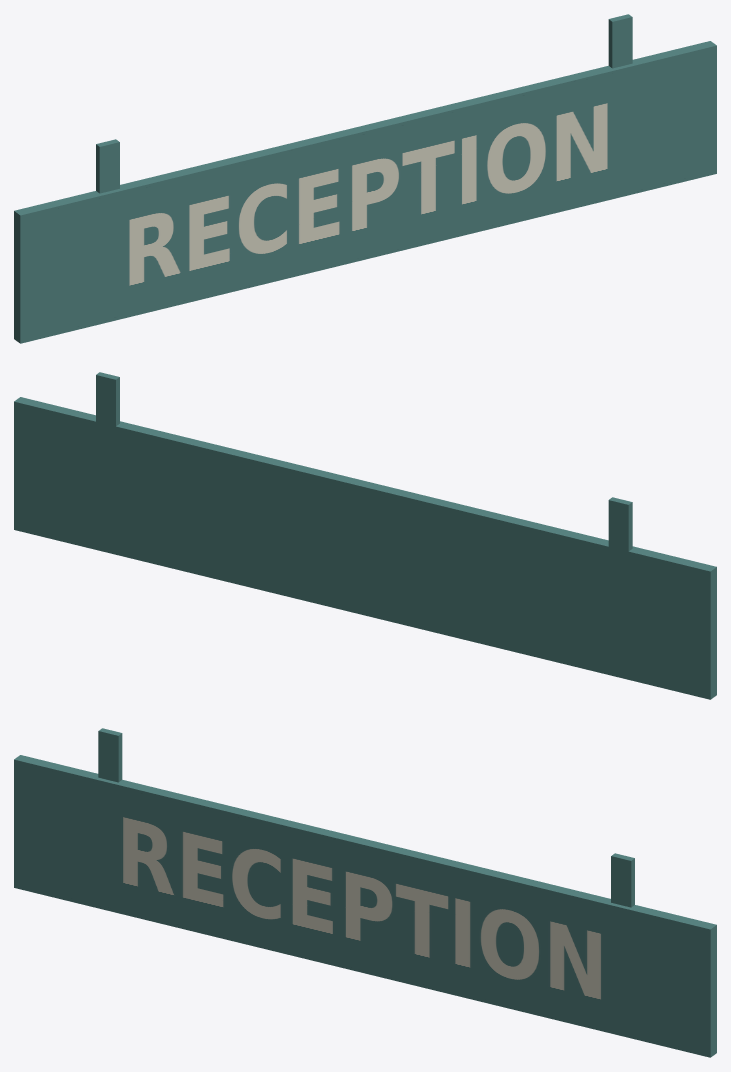
Rendered from reception_sign.glb.
3 views of the same model, one above another, from view 1: azimuth 30°, elevation 25°; view 2: azimuth 150°, elevation 25°; view 3: azimuth 330°, elevation 25° (orthographic).
Visible parts, largest first — view 1: reception_panel, mount_tab_right, mount_tab_left; view 2: reception_panel, mount_tab_left, mount_tab_right; view 3: reception_panel, mount_tab_left, mount_tab_right.
Part boxes in pixels (bbox=[...]): reception_panel: bbox=[14, 41, 716, 343]; mount_tab_right: bbox=[608, 14, 632, 68]; mount_tab_left: bbox=[96, 139, 119, 193]; reception_panel: bbox=[14, 397, 716, 699]; mount_tab_left: bbox=[608, 497, 632, 554]; mount_tab_right: bbox=[96, 372, 119, 428]; reception_panel: bbox=[14, 755, 716, 1057]; mount_tab_left: bbox=[98, 728, 122, 782]; mount_tab_right: bbox=[611, 853, 634, 907].
Bounding box in the file's own units: 1.25 × 0.3 × 0.02.
2 materials, 1 textured.
